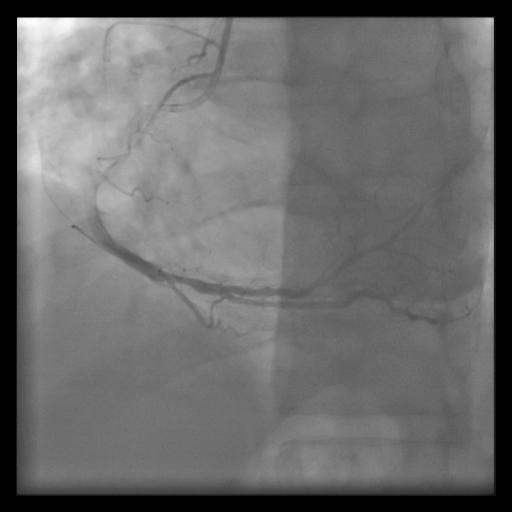Stenosis: (166, 261, 210, 299)
